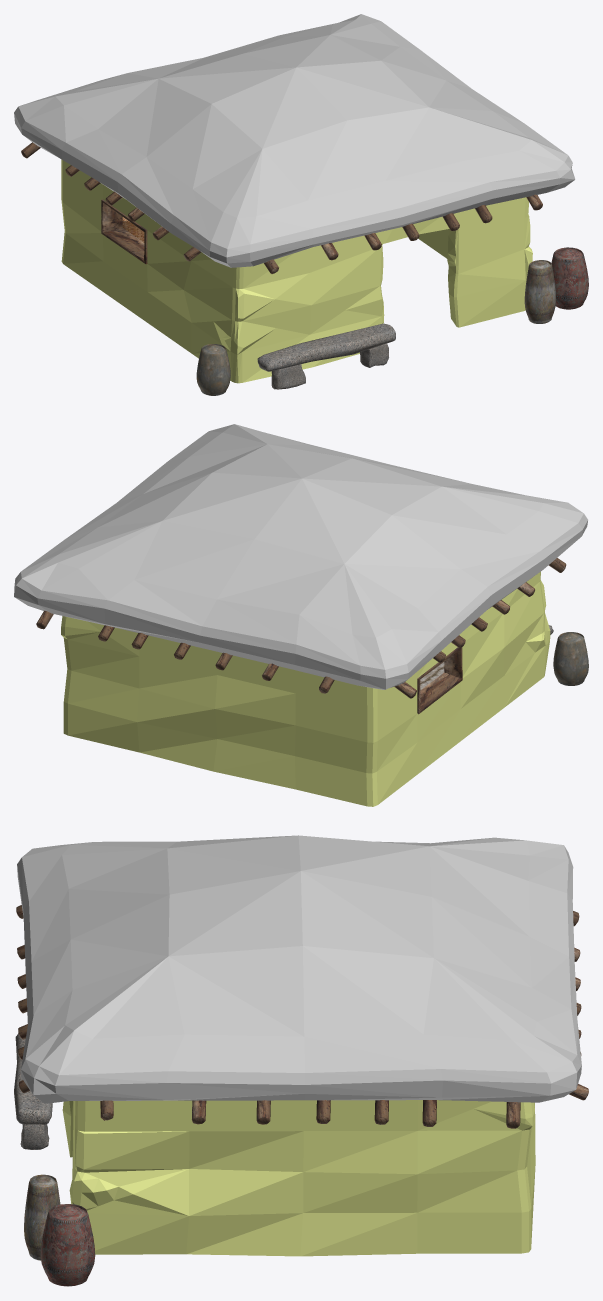
Rendered from SquareHut_AttachedDetails.FBX.
The picture shows the model from 3 angles, top to bottom: view 1: azimuth 30°, elevation 25°; view 2: azimuth 150°, elevation 25°; view 3: azimuth 270°, elevation 25°; orthographic projection. The views are drawn at different scales.
Visible parts, largest first — view 1: SquareHut_AttachedDetails; view 2: SquareHut_AttachedDetails; view 3: SquareHut_AttachedDetails.
Boxes of the visible parts, left/top/right/bottom form: SquareHut_AttachedDetails: left=14, top=14, right=588, bottom=395; SquareHut_AttachedDetails: left=14, top=424, right=588, bottom=806; SquareHut_AttachedDetails: left=14, top=835, right=588, bottom=1286.
Size of the model in its own units: 9.26 by 4.91 by 8.81.
